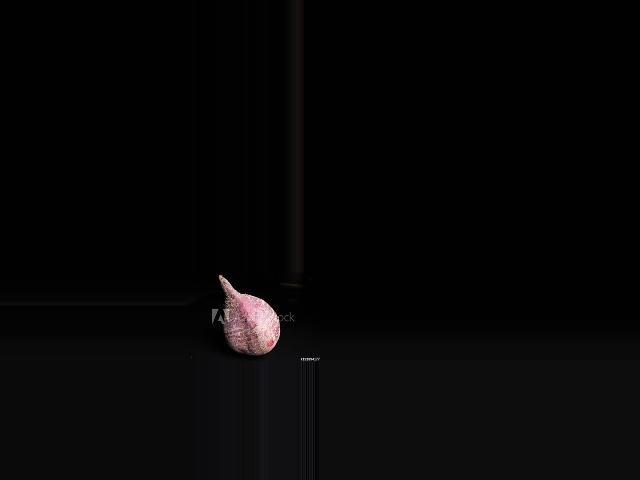beet: (219, 275, 280, 355)
